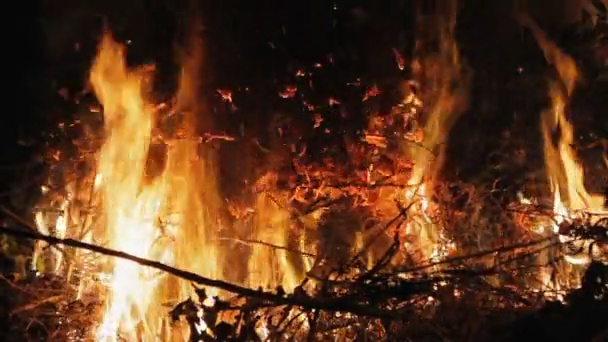fire: (32, 35, 224, 342), (529, 48, 608, 301), (236, 207, 313, 338), (397, 129, 456, 263)
